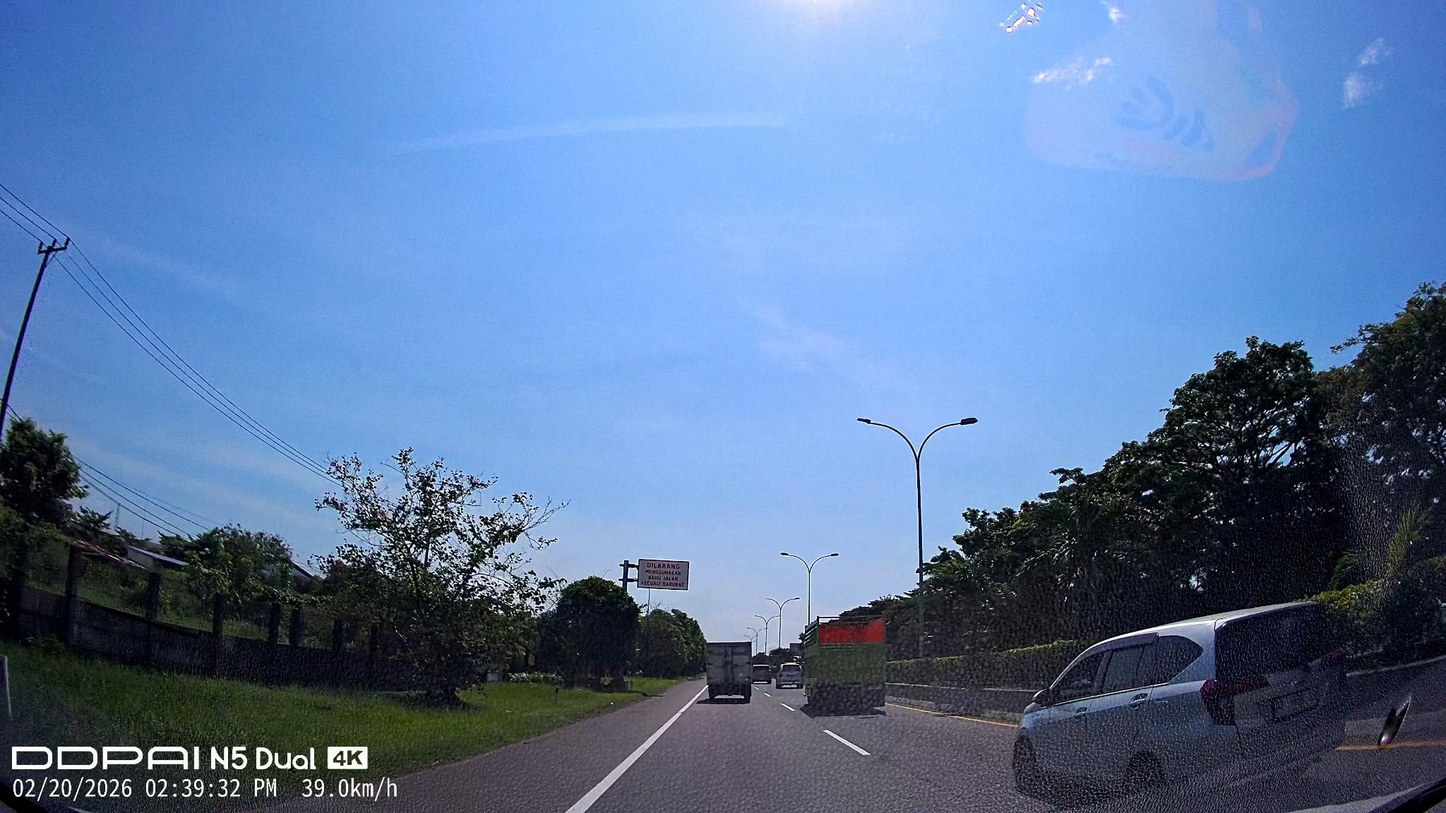rambu_teks: (637, 558, 691, 591)
